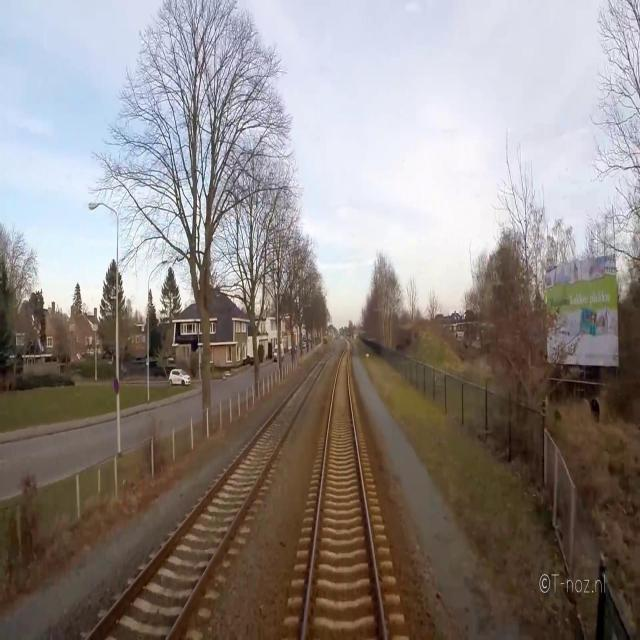rail-track: (307, 345, 382, 639)
